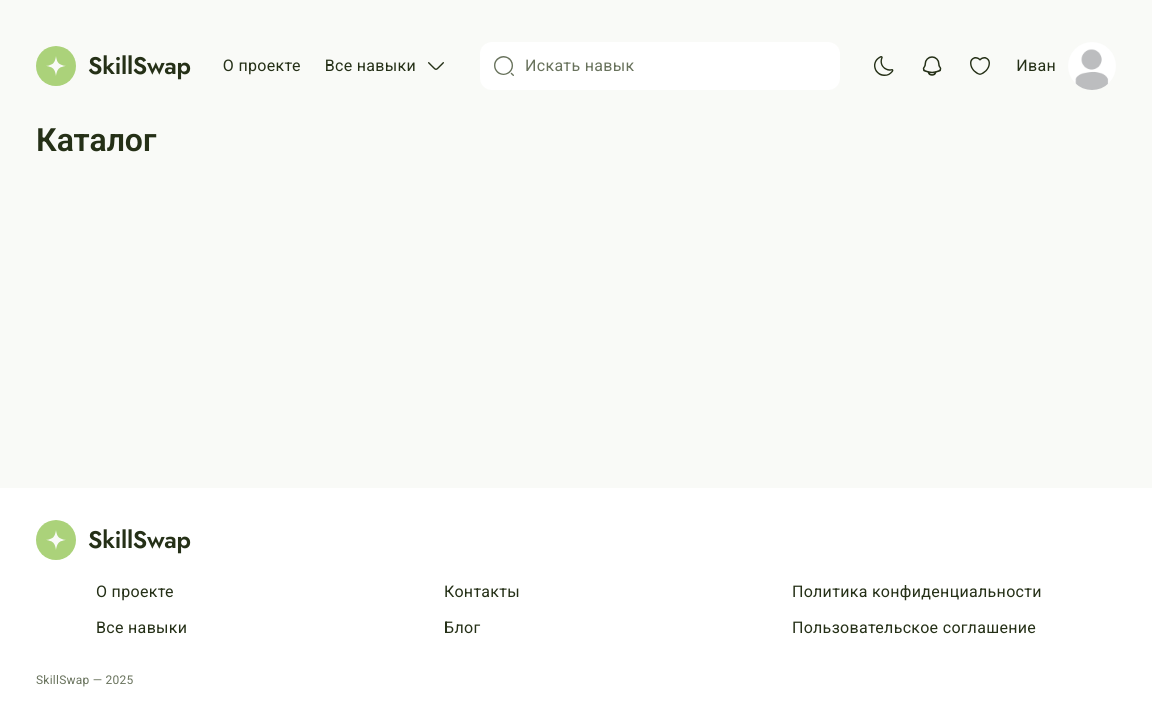
Test: MainLayout: ошибка загрузки → явный повтор → пустой список только после успеха
This screenshot has width=1152, height=720.
Step 1. Click the button named "Уведомления" → [932, 66], box [920,54,944,78]
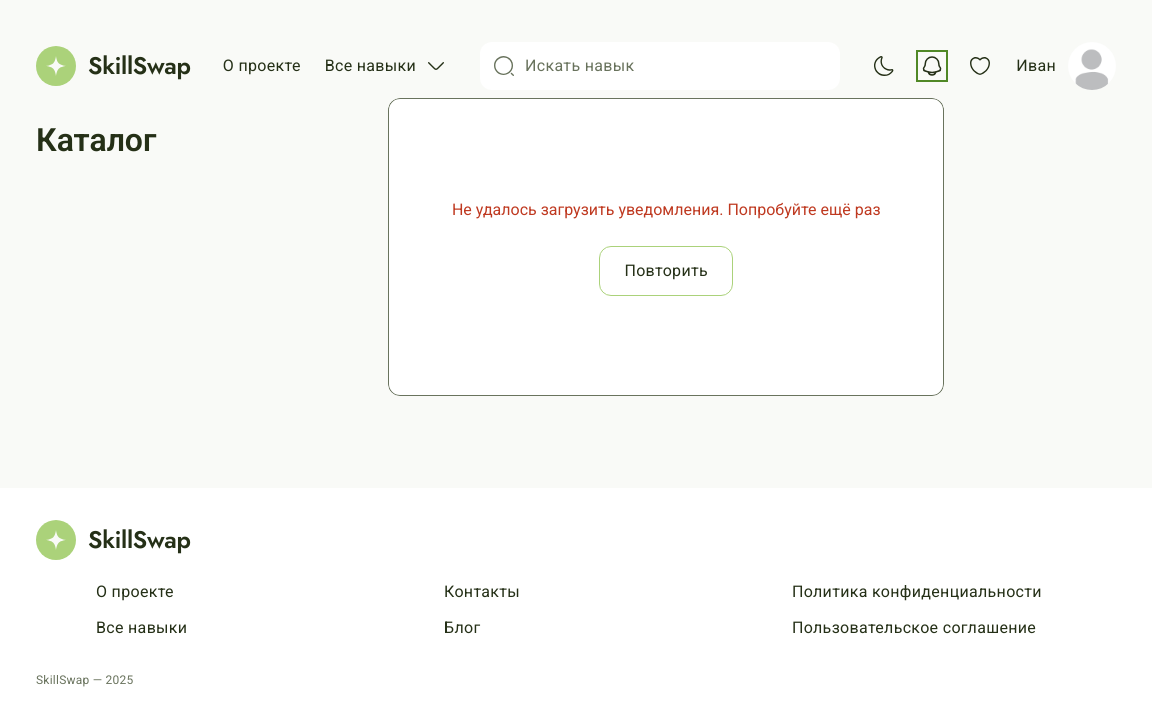
expect the text "Уведомлений пока нет" is not shown: met
expect the message shows "Не удалось загрузить уведомления. Попробуйте ещё раз": met, box [452,200,881,219]
Step 2. Click the button named "Уведомления" → [932, 66], box [920,54,944,78]
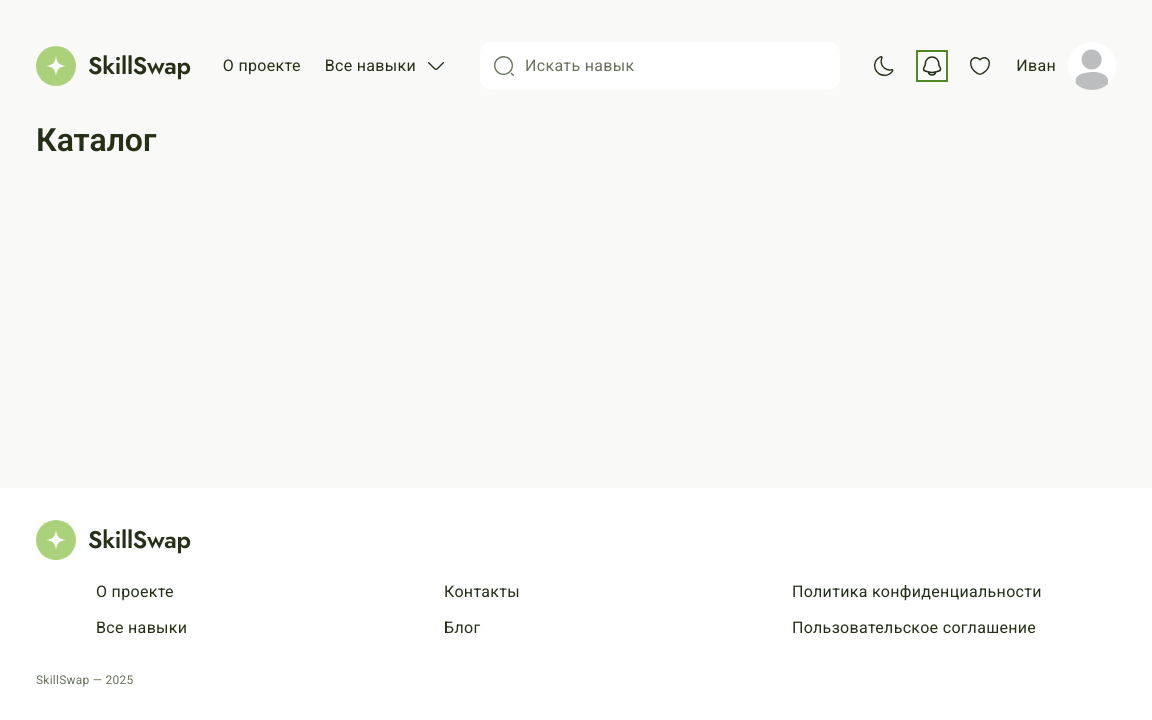
Step 3. Click the button named "Уведомления" → [932, 66], box [920,54,944,78]
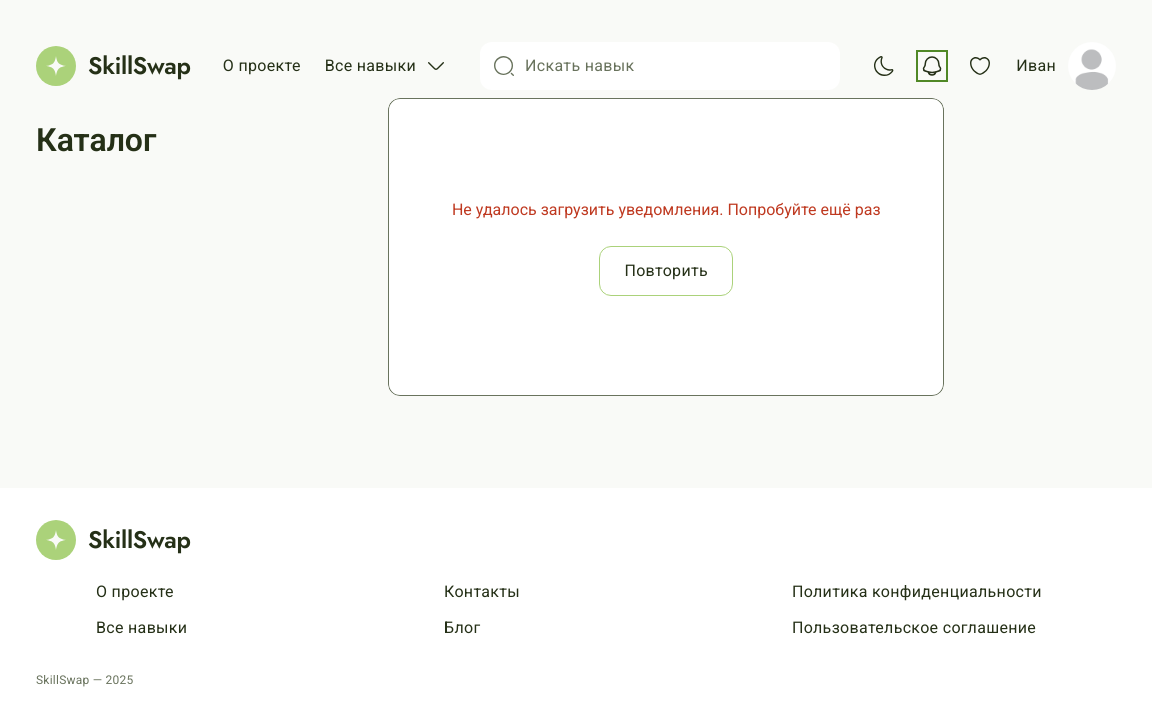
Step 4. Click the button "Повторить" → [666, 271], box [599,246,733,296]
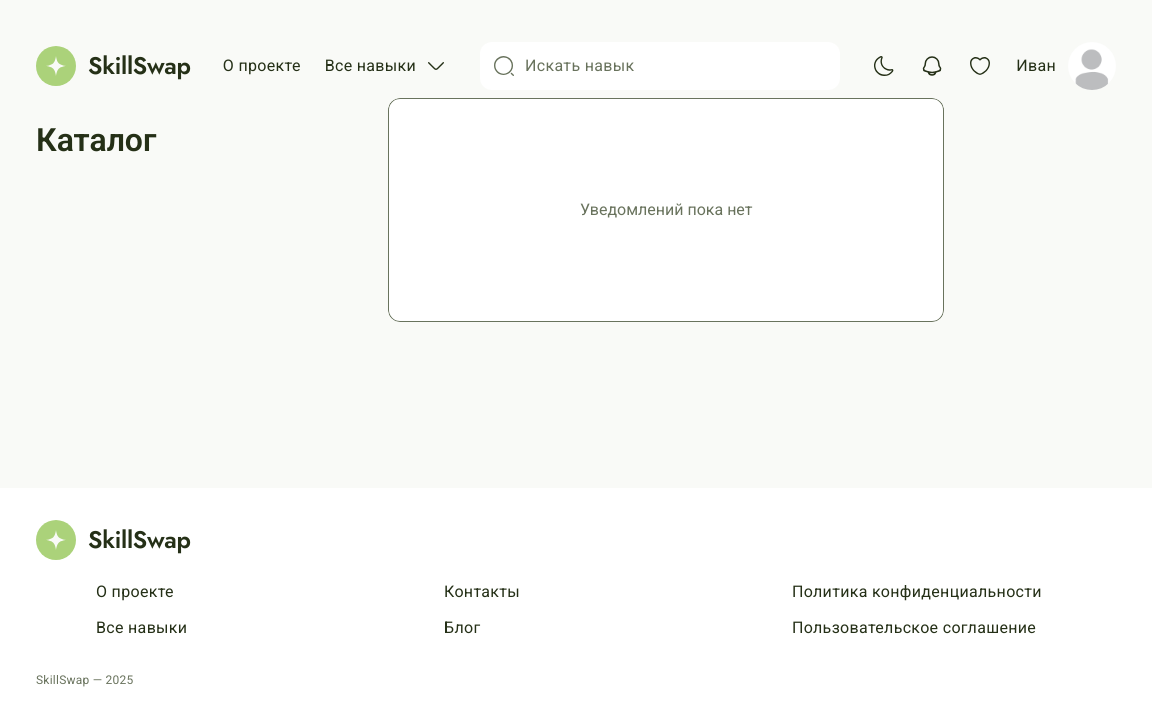
expect the text "Уведомлений пока нет" is shown: met, box [580,198,752,222]
